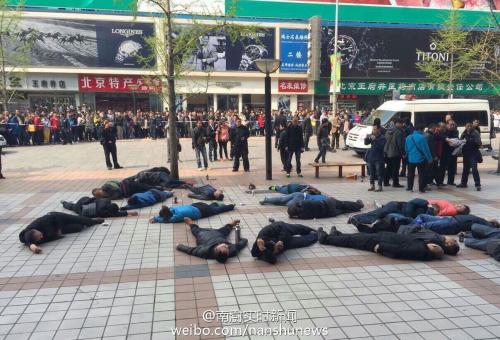10+: (5, 79, 494, 286)
down: (246, 213, 318, 271), (323, 230, 439, 266), (14, 210, 109, 252), (174, 217, 248, 264), (149, 197, 243, 225), (282, 190, 361, 218), (58, 192, 127, 222), (463, 219, 500, 264), (364, 197, 443, 218), (86, 169, 144, 197), (123, 185, 186, 208), (407, 213, 473, 234), (423, 193, 472, 216), (265, 175, 326, 193), (182, 180, 230, 201), (145, 166, 185, 188), (259, 186, 293, 208)
